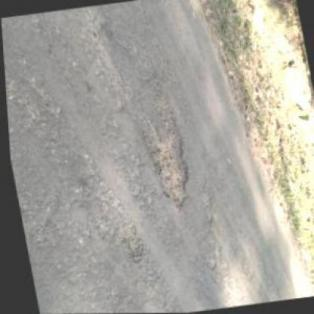Hueco: (131, 80, 194, 214), (114, 225, 144, 266)
